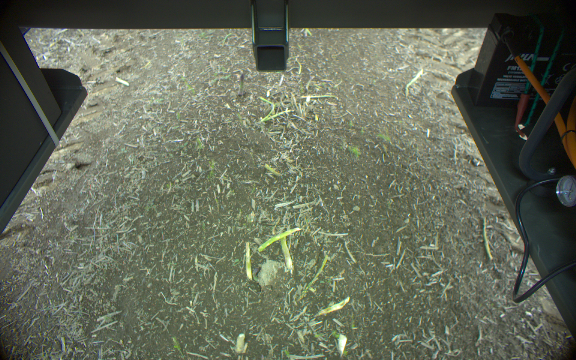aspa: (258, 227, 301, 249), (280, 235, 293, 270), (243, 243, 252, 281)
